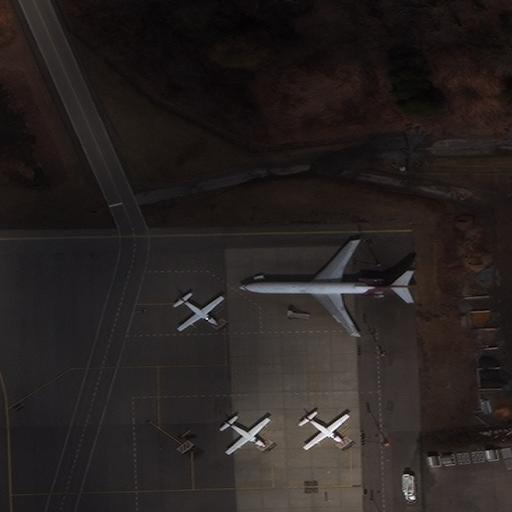Medium Civil Transport: (238, 239, 413, 336), (224, 417, 268, 453), (303, 414, 347, 449), (177, 296, 222, 330)
